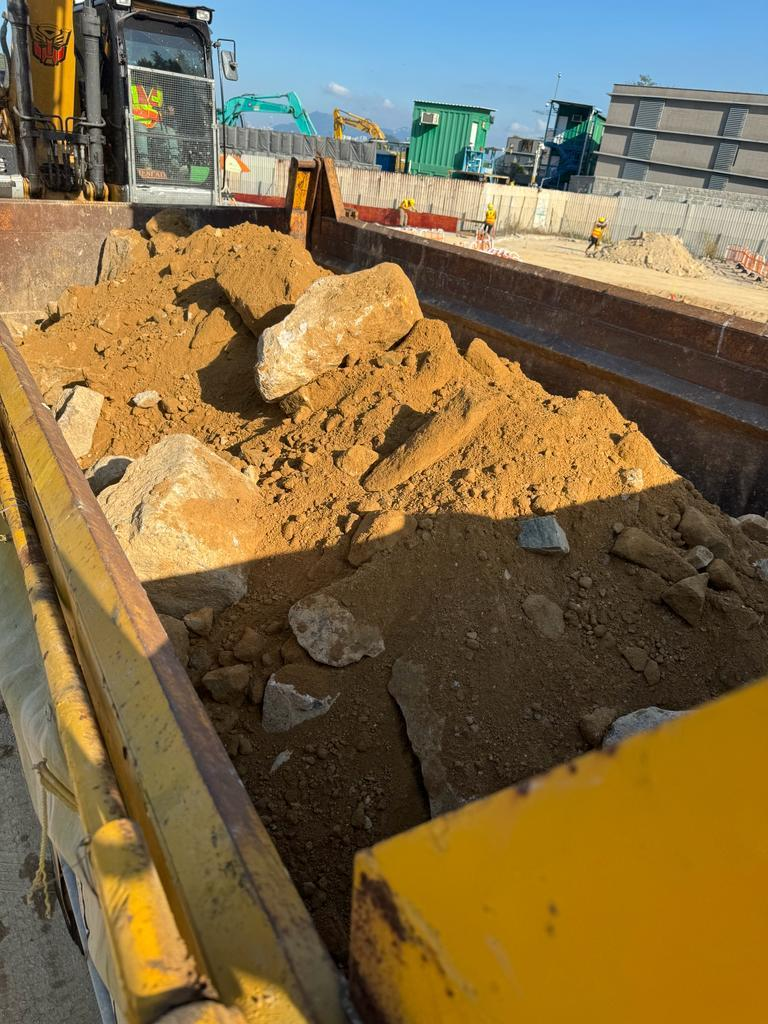dry: (22, 227, 768, 885)
